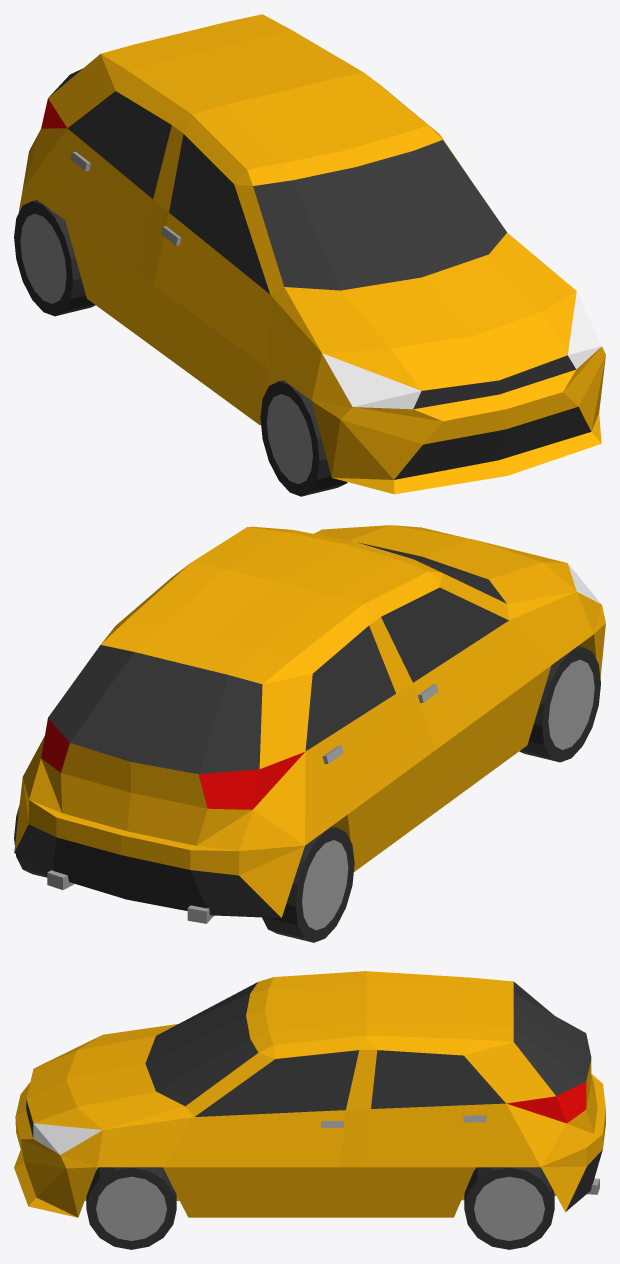
File: Taxi.fbx
3 views of the same model, one above another, from view 1: azimuth 30°, elevation 25°; view 2: azimuth 150°, elevation 25°; view 3: azimuth 270°, elevation 25° (orthographic). The views are drawn at different scales.
Parts seen in each view (by area): view 1: Cube, Cylinder, Cylinder.003; view 2: Cube, Cylinder.003, Cylinder; view 3: Cube, Cylinder.001, Cylinder.002.
Part boxes in pixels (box(x1,y1,x2,y2)): Cube: box(18, 14, 605, 494); Cylinder: box(260, 380, 347, 496); Cylinder.003: box(14, 200, 95, 316); Cube: box(14, 525, 605, 923); Cylinder.003: box(262, 826, 354, 942); Cylinder: box(519, 646, 600, 762); Cube: box(14, 971, 605, 1217); Cylinder.001: box(464, 1167, 554, 1249); Cylinder.002: box(86, 1167, 176, 1249).
Size of the model in its own units: 115 by 99.17 by 273.
